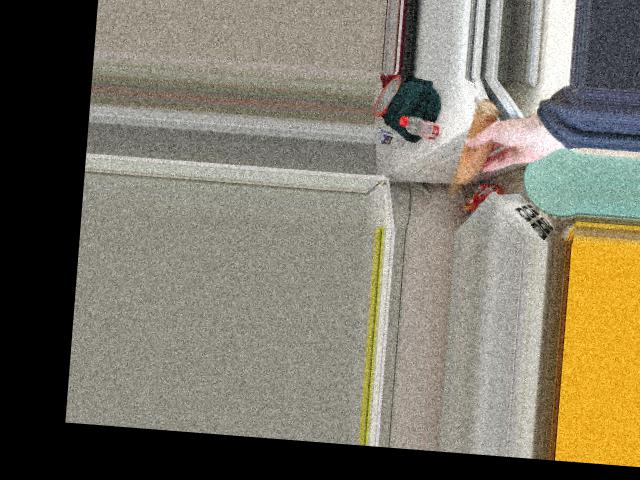sweet_potato: (444, 102, 502, 197)
